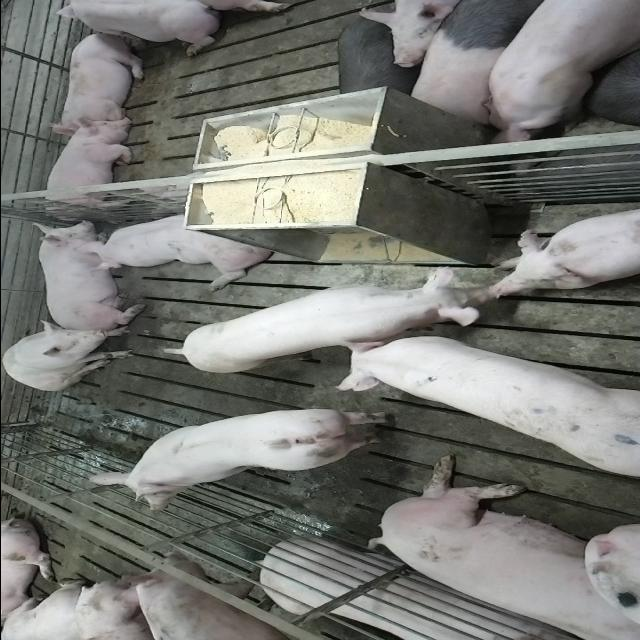Lateral_lying: (368, 454, 640, 636), (258, 537, 580, 640)
Sitting: (3, 322, 138, 390)
Standing: (336, 333, 640, 485), (167, 268, 490, 377), (85, 406, 400, 514), (477, 2, 640, 142), (405, 2, 563, 126), (132, 554, 354, 640)
Sternal_lying: (84, 210, 274, 284), (484, 202, 638, 292), (27, 219, 138, 327), (51, 30, 149, 132), (42, 2, 224, 56), (38, 117, 138, 215)
